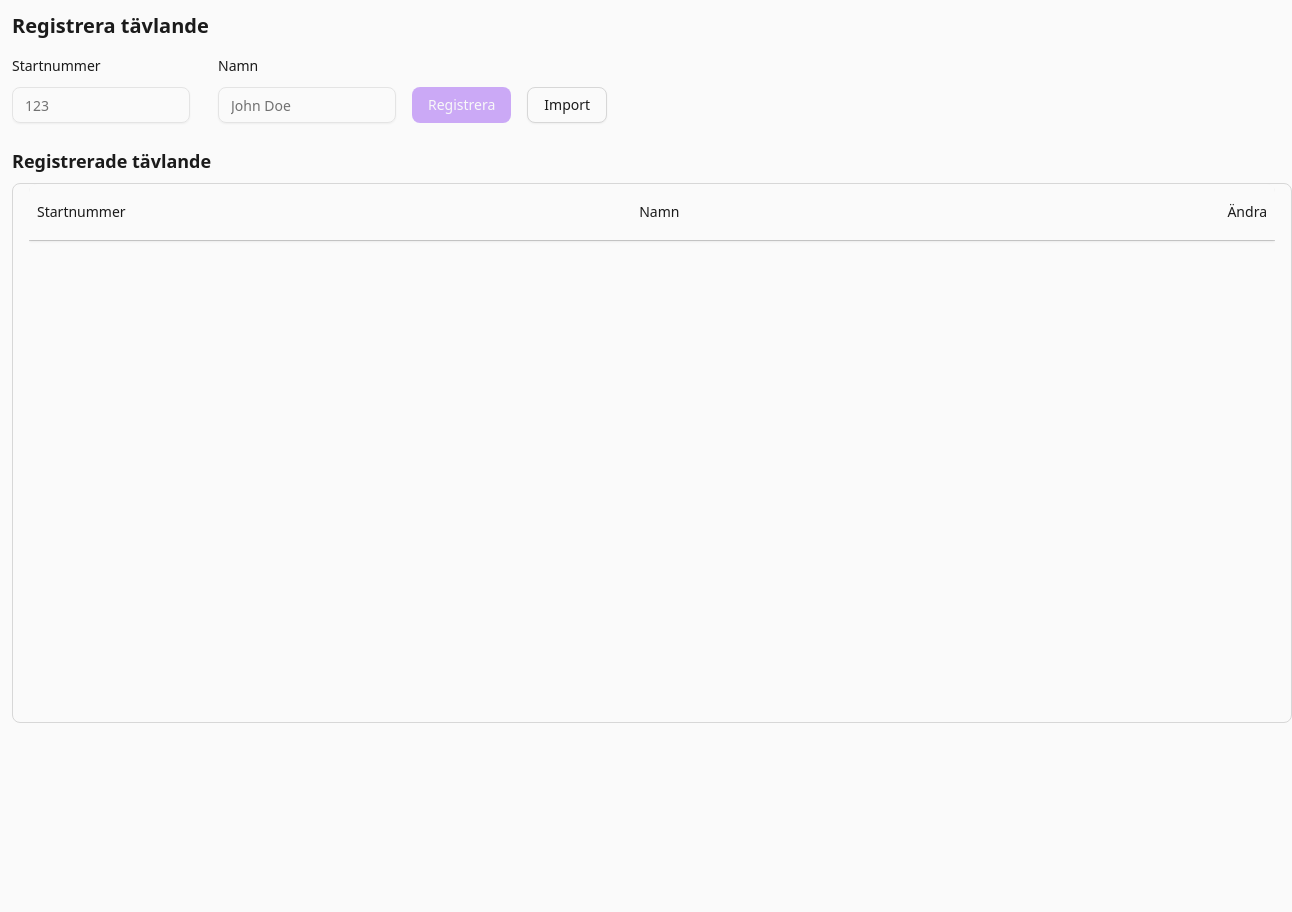
Scenario: RegisteringStartTid › registrerar ett korrekt startnummer
// fyll startnummer
Type "001" into the field with placeholder "123". click: (101, 105)
box: [12,87,190,123]
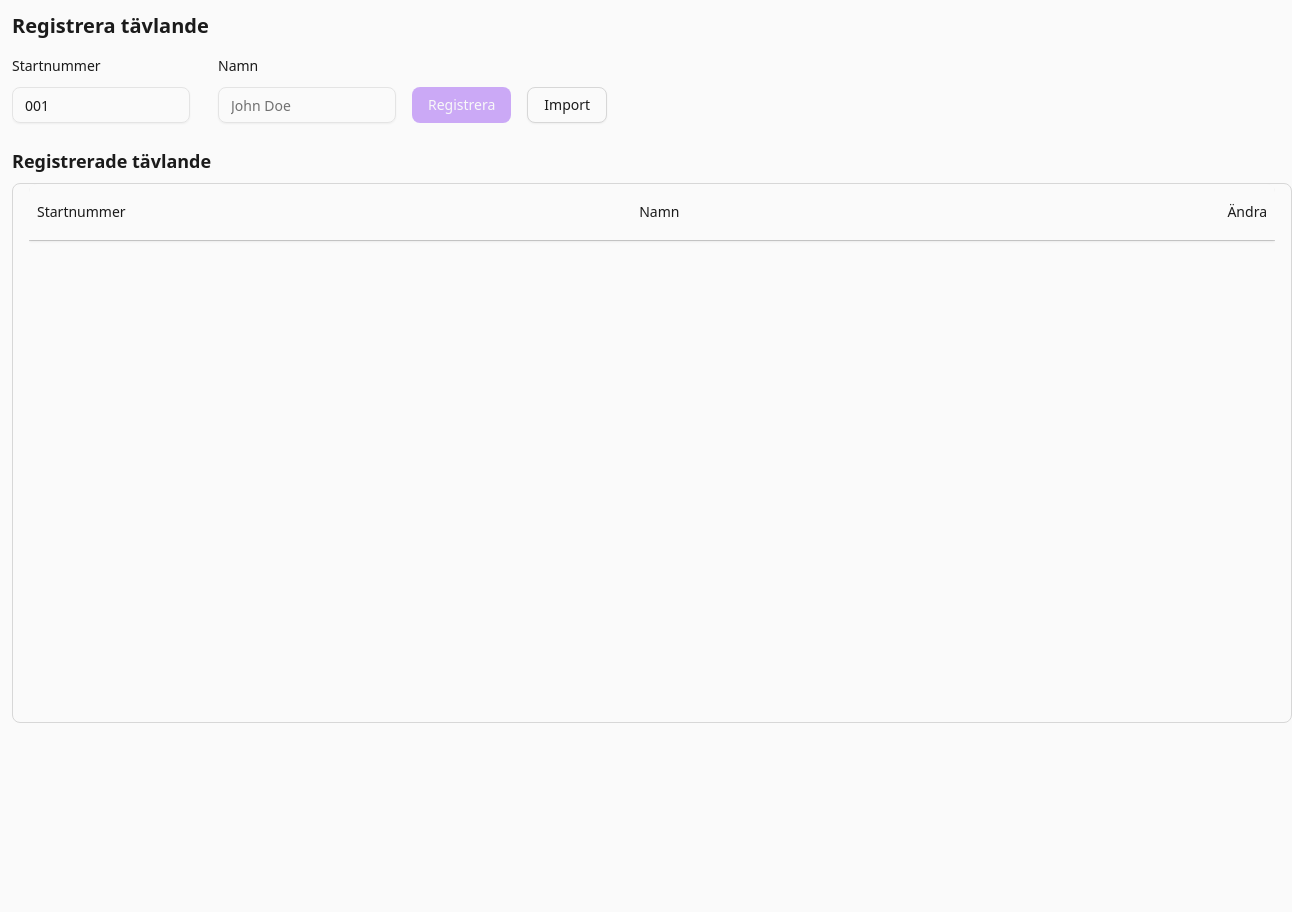
// fyll namn (viktigt!)
Type "Alice" into the field with placeholder "John Doe". click: (307, 105)
box: [218,87,396,123]
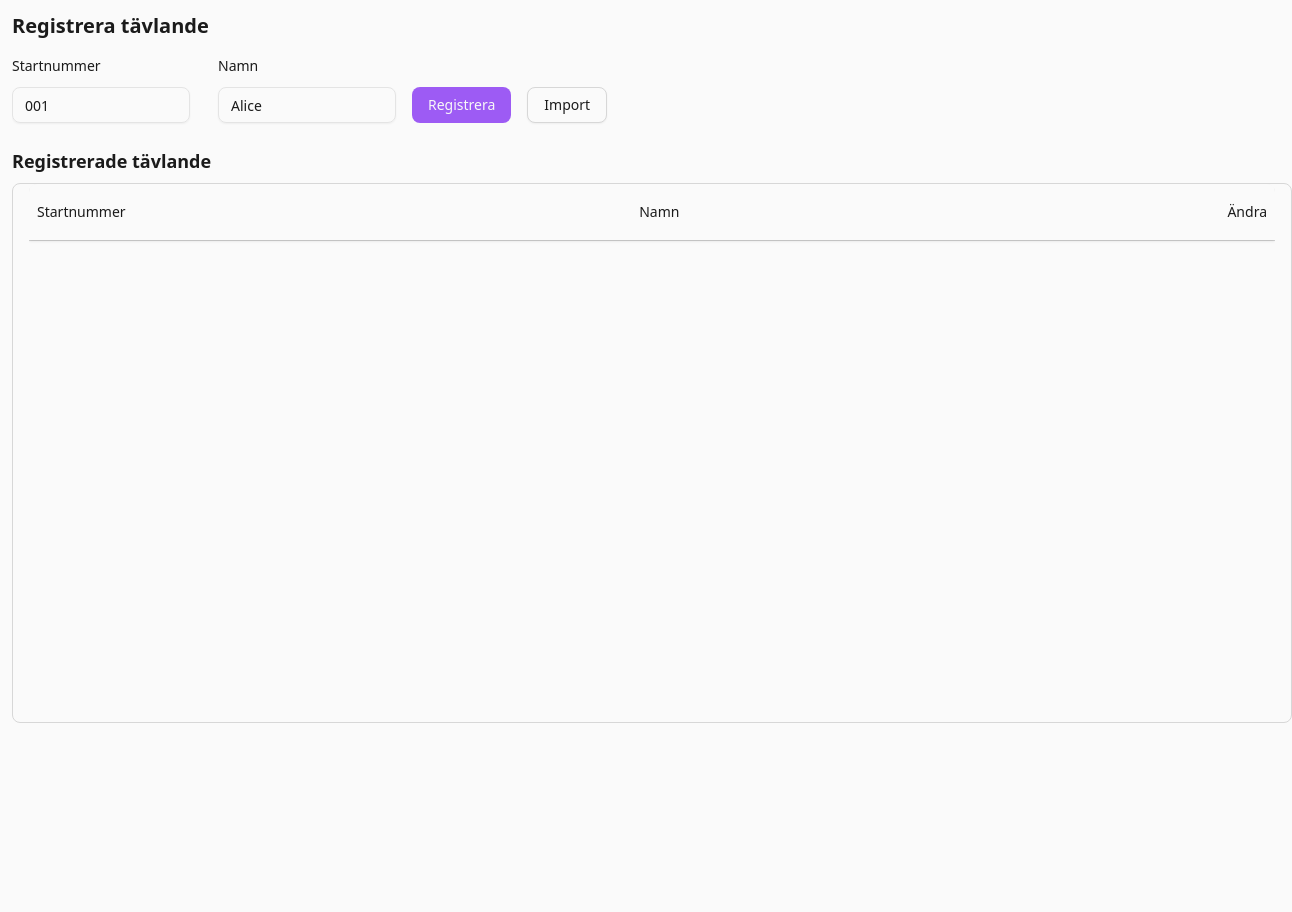
Click the button "Registrera". click: (462, 105)
box: [412,87,511,123]
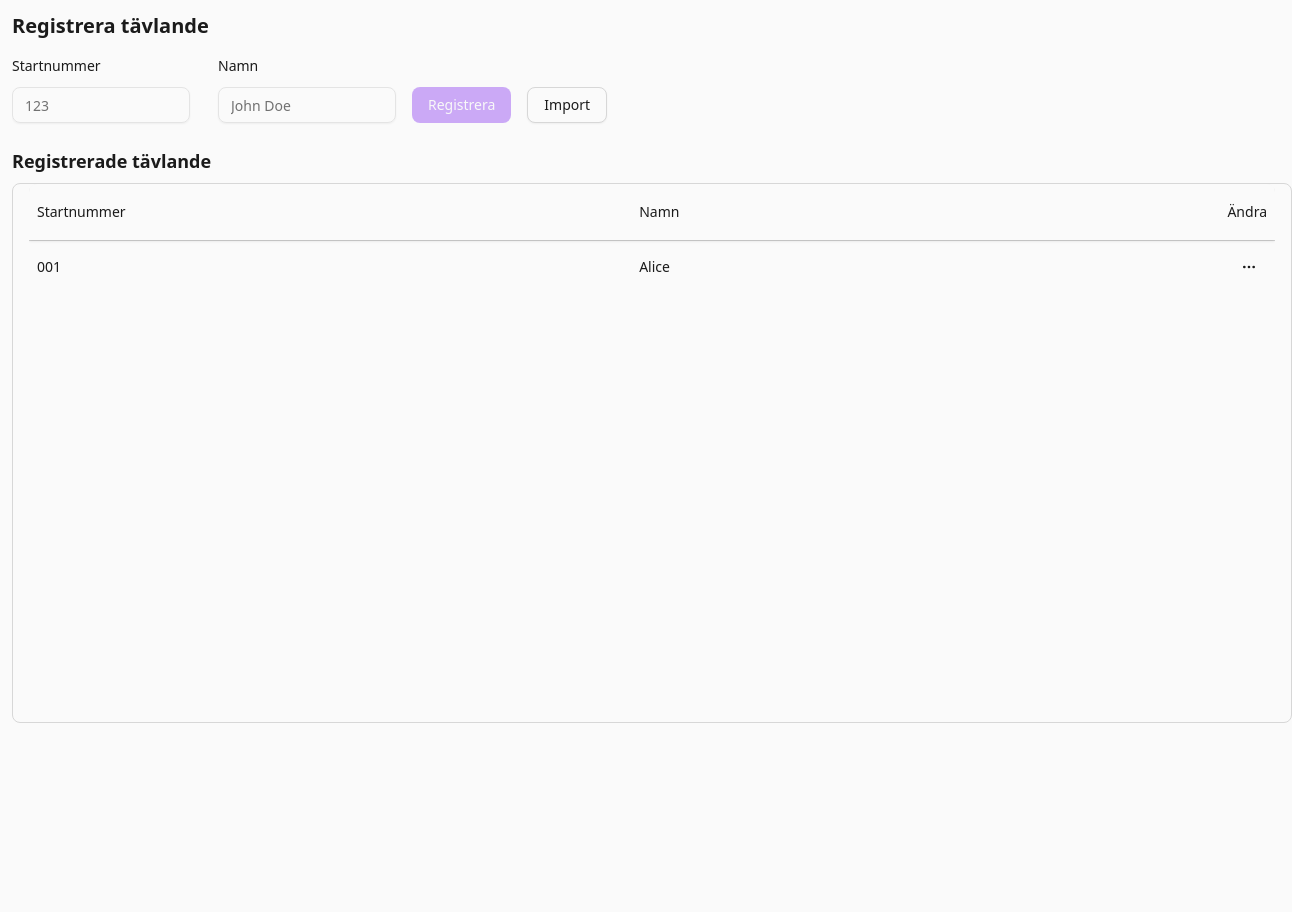
Result: the text "001" is shown at [29,240,631,293]
